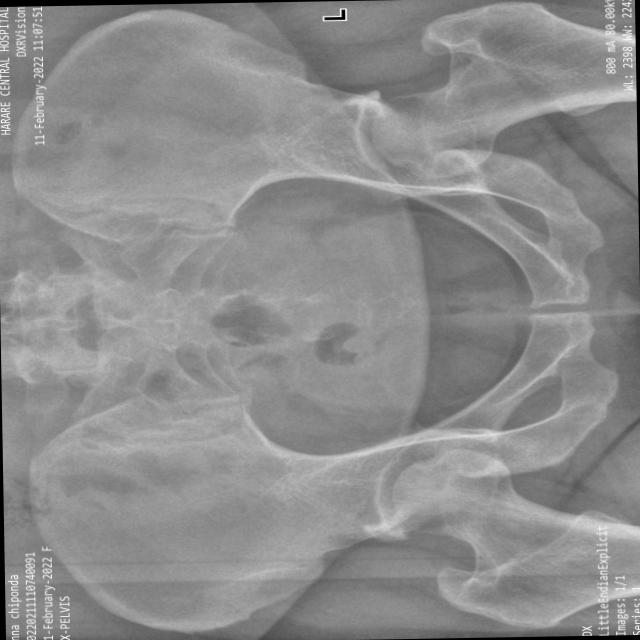normal-left: (371, 0, 636, 177)
normal-right: (392, 447, 640, 627)
